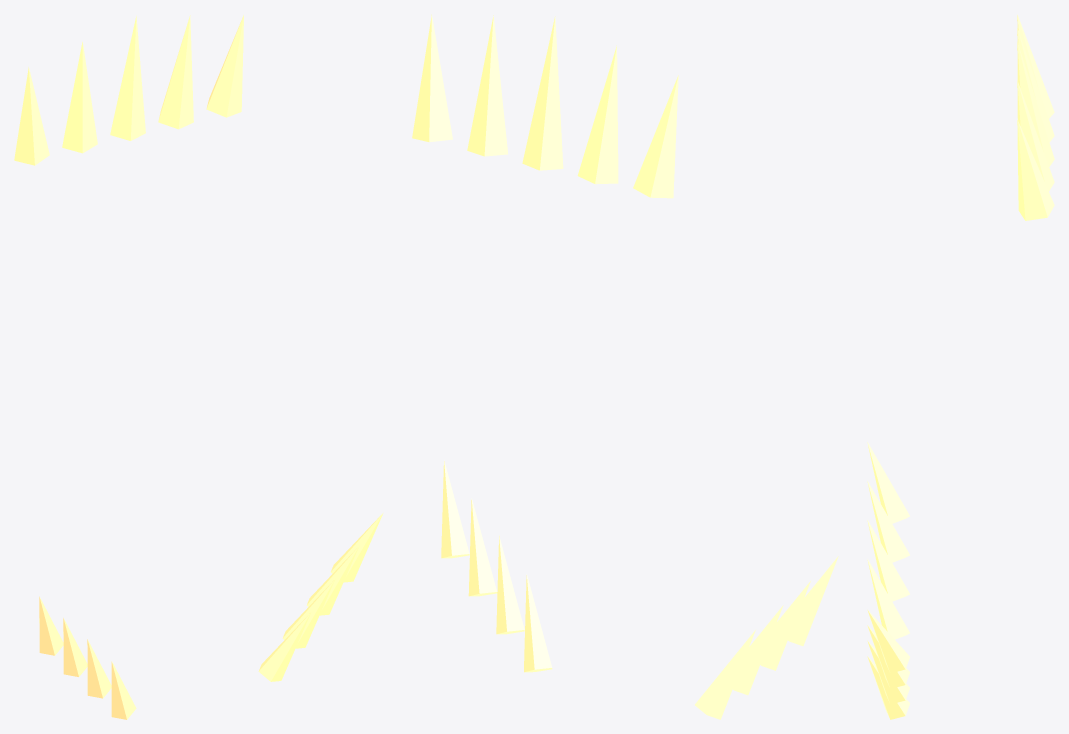
Rendered from EMBER_ASCENDED.glb.
3 renders of one model, left to right at view 1: azimuth 30°, elevation 25°; view 2: azimuth 150°, elevation 25°; view 3: azimuth 270°, elevation 25°, orthographic. The views are drawn at different scales.
Parts seen in each view (by area): view 1: ANI08C_ember-vale_2_heat_crown2, ANI08C_ember-vale_2_heat_crown3, ANI08C_ember-vale_2_heat_crown1, ANI08C_ember-vale_2_heat_crown4, ANI08C_ember-vale_2_heat_crown0, ANI08C_ember-vale_2_vent_R0, ANI08C_ember-vale_2_vent_R2, ANI08C_ember-vale_2_vent_R3, ANI08C_ember-vale_2_vent_R1, ANI08C_ember-vale_2_vent_L0, ANI08C_ember-vale_2_vent_L1, ANI08C_ember-vale_2_vent_L2 (+1 smaller); view 2: ANI08C_ember-vale_2_heat_crown2, ANI08C_ember-vale_2_heat_crown1, ANI08C_ember-vale_2_heat_crown3, ANI08C_ember-vale_2_heat_crown0, ANI08C_ember-vale_2_heat_crown4, ANI08C_ember-vale_2_vent_L3, ANI08C_ember-vale_2_vent_R1, ANI08C_ember-vale_2_vent_R3, ANI08C_ember-vale_2_vent_R2, ANI08C_ember-vale_2_vent_R0, ANI08C_ember-vale_2_vent_L0, ANI08C_ember-vale_2_vent_L1 (+1 smaller); view 3: ANI08C_ember-vale_2_heat_crown4, ANI08C_ember-vale_2_heat_crown2, ANI08C_ember-vale_2_heat_crown3, ANI08C_ember-vale_2_vent_L2, ANI08C_ember-vale_2_vent_L1, ANI08C_ember-vale_2_vent_L3, ANI08C_ember-vale_2_vent_L0, ANI08C_ember-vale_2_vent_R3, ANI08C_ember-vale_2_heat_crown1, ANI08C_ember-vale_2_heat_crown0, ANI08C_ember-vale_2_vent_R1, ANI08C_ember-vale_2_vent_R2 (+1 smaller).
Part boxes in pixels (left/top/right/bottom): ANI08C_ember-vale_2_heat_crown2: left=110, top=15, right=145, bottom=140; ANI08C_ember-vale_2_heat_crown3: left=158, top=15, right=193, bottom=129; ANI08C_ember-vale_2_heat_crown1: left=62, top=42, right=97, bottom=153; ANI08C_ember-vale_2_heat_crown4: left=206, top=15, right=243, bottom=117; ANI08C_ember-vale_2_heat_crown0: left=14, top=67, right=49, bottom=165; ANI08C_ember-vale_2_vent_R0: left=258, top=612, right=311, bottom=681; ANI08C_ember-vale_2_vent_R2: left=306, top=546, right=359, bottom=615; ANI08C_ember-vale_2_vent_R3: left=331, top=513, right=383, bottom=582; ANI08C_ember-vale_2_vent_R1: left=282, top=579, right=335, bottom=648; ANI08C_ember-vale_2_vent_L0: left=111, top=661, right=136, bottom=719; ANI08C_ember-vale_2_vent_L1: left=87, top=639, right=111, bottom=698; ANI08C_ember-vale_2_vent_L2: left=63, top=618, right=87, bottom=676; ANI08C_ember-vale_2_heat_crown2: left=522, top=16, right=563, bottom=170; ANI08C_ember-vale_2_heat_crown1: left=577, top=45, right=618, bottom=184; ANI08C_ember-vale_2_heat_crown3: left=467, top=15, right=507, bottom=156; ANI08C_ember-vale_2_heat_crown0: left=633, top=75, right=678, bottom=198; ANI08C_ember-vale_2_heat_crown4: left=412, top=14, right=452, bottom=142; ANI08C_ember-vale_2_vent_L3: left=777, top=556, right=838, bottom=645; ANI08C_ember-vale_2_vent_R1: left=496, top=535, right=524, bottom=634; ANI08C_ember-vale_2_vent_R3: left=441, top=460, right=469, bottom=558; ANI08C_ember-vale_2_vent_R2: left=468, top=498, right=497, bottom=596; ANI08C_ember-vale_2_vent_R0: left=524, top=574, right=552, bottom=672; ANI08C_ember-vale_2_vent_L0: left=695, top=630, right=755, bottom=719; ANI08C_ember-vale_2_vent_L1: left=722, top=605, right=783, bottom=695; ANI08C_ember-vale_2_heat_crown4: left=1017, top=119, right=1054, bottom=220; ANI08C_ember-vale_2_heat_crown2: left=1017, top=42, right=1054, bottom=166; ANI08C_ember-vale_2_heat_crown3: left=1017, top=80, right=1054, bottom=191; ANI08C_ember-vale_2_vent_L2: left=867, top=481, right=909, bottom=562; ANI08C_ember-vale_2_vent_L1: left=867, top=520, right=909, bottom=601; ANI08C_ember-vale_2_vent_L3: left=867, top=442, right=909, bottom=523; ANI08C_ember-vale_2_vent_L0: left=867, top=559, right=909, bottom=639; ANI08C_ember-vale_2_vent_R3: left=867, top=610, right=909, bottom=673; ANI08C_ember-vale_2_heat_crown1: left=1017, top=28, right=1054, bottom=142; ANI08C_ember-vale_2_heat_crown0: left=1017, top=14, right=1054, bottom=118; ANI08C_ember-vale_2_vent_R1: left=867, top=641, right=909, bottom=704; ANI08C_ember-vale_2_vent_R2: left=867, top=625, right=909, bottom=688.
Bounding box in the file's own units: 0.516 × 0.9151 × 0.2435.
